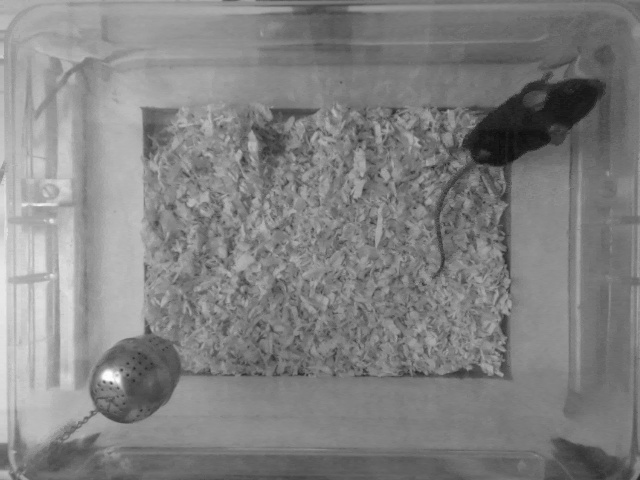mice: (432, 64, 607, 278)
